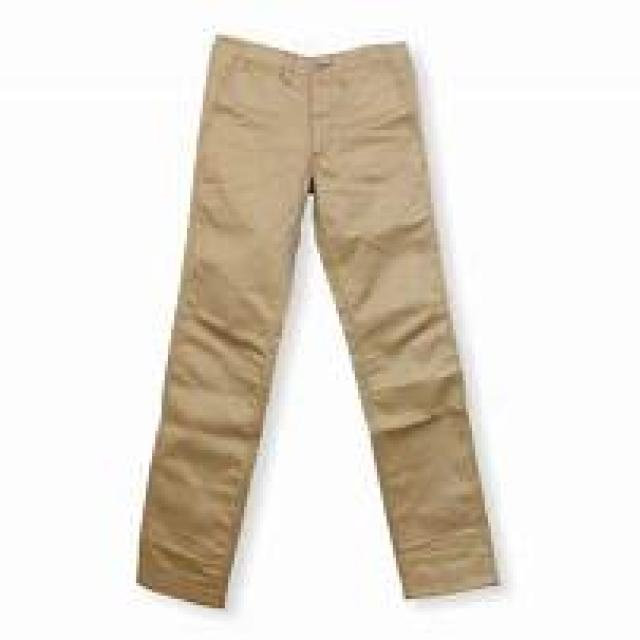long-pants: (133, 32, 502, 609)
